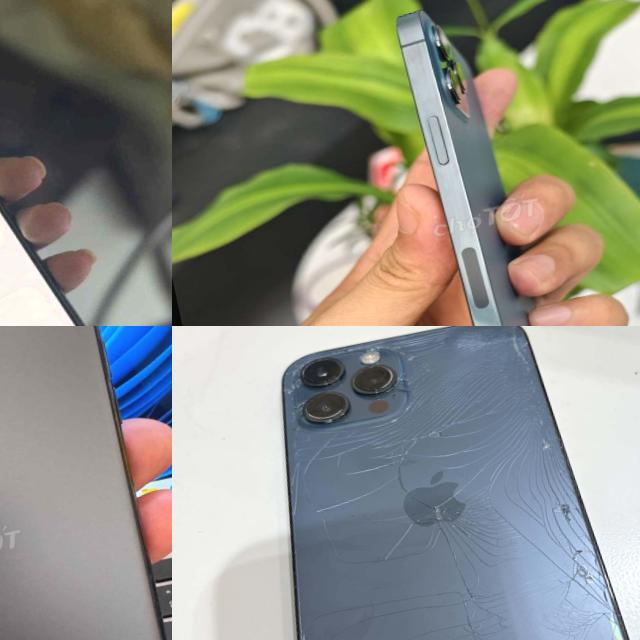gen_11: (0, 326, 172, 640)
gen_12_13: (225, 326, 640, 640), (381, 0, 586, 326)
